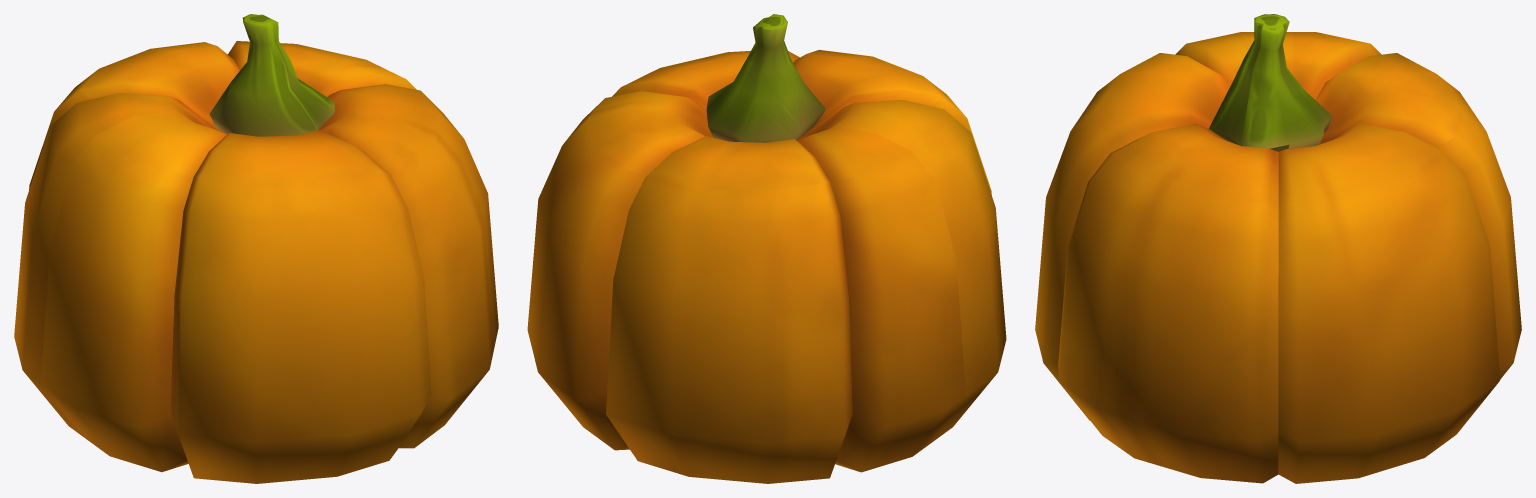
File: Pumpkin_B.fbx
The picture shows the model from 3 angles, left to right: view 1: azimuth 30°, elevation 25°; view 2: azimuth 150°, elevation 25°; view 3: azimuth 270°, elevation 25°; orthographic projection.
Visible parts, largest first — view 1: U_Pumpkin_B; view 2: U_Pumpkin_B; view 3: U_Pumpkin_B.
Part boxes in pixels (x1,y1,x2,y2): U_Pumpkin_B: (14,14,498,483); U_Pumpkin_B: (527,14,1006,483); U_Pumpkin_B: (1035,14,1521,483).
Size of the model in its own units: 88.1 by 80.23 by 89.43.
Materials: 1 (1 with a texture image).
